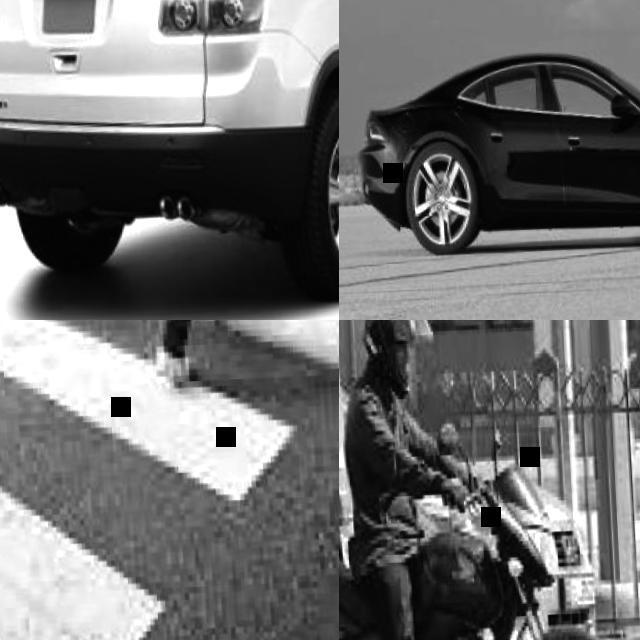car: (2, 0, 334, 295), (359, 2, 639, 255), (411, 527, 546, 639)
